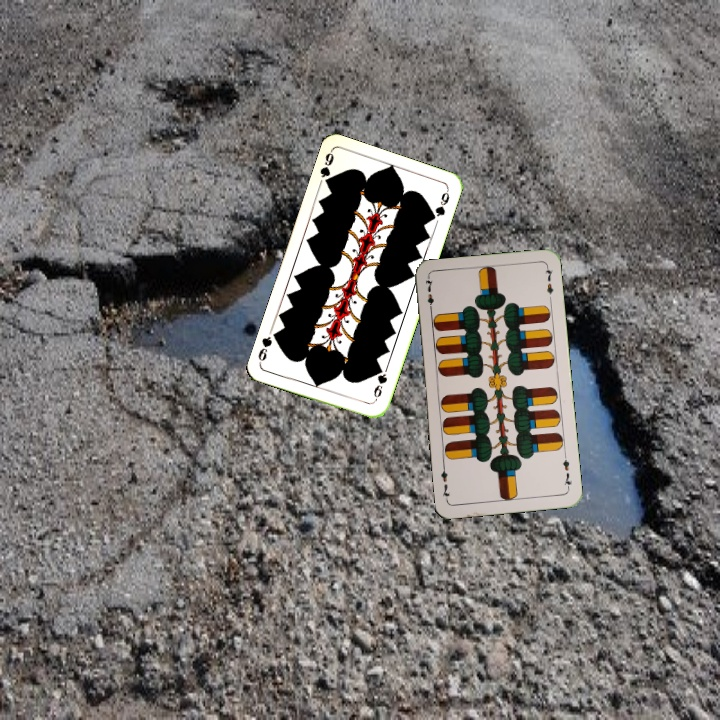E7: (421, 274, 436, 315), (559, 451, 574, 491)
G9: (316, 147, 336, 189), (370, 364, 390, 404)
